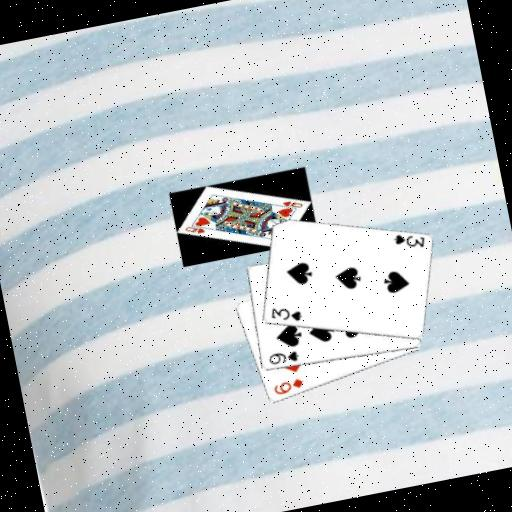3S: (266, 300, 305, 328), (389, 227, 428, 255)
6D: (270, 375, 307, 398)
9S: (265, 346, 302, 368)
